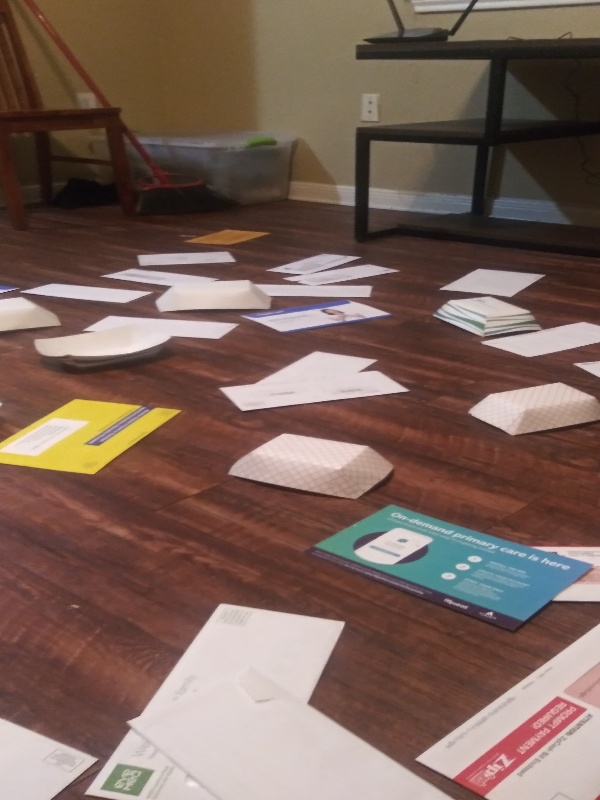plate: (225, 425, 397, 502), (33, 316, 177, 372), (465, 381, 600, 439), (427, 293, 548, 340), (151, 276, 272, 313), (1, 294, 68, 340)
